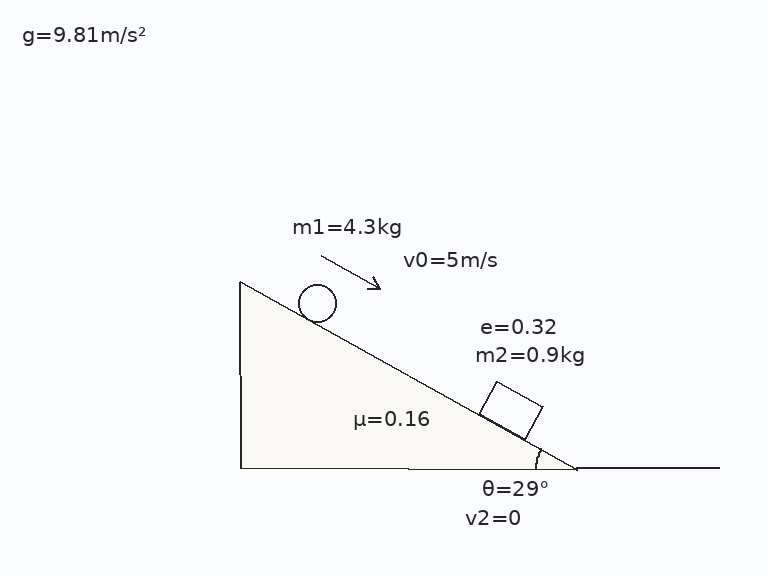ball: (296, 282, 338, 324)
block: (477, 380, 544, 441)
ramp: (238, 280, 578, 470)
